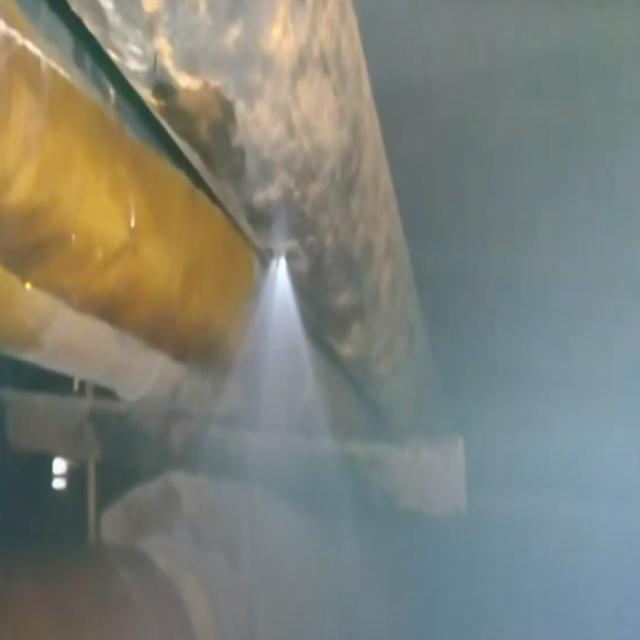leak: (189, 254, 343, 494)
